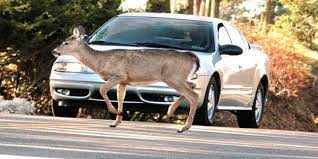deer: (52, 27, 199, 130)
